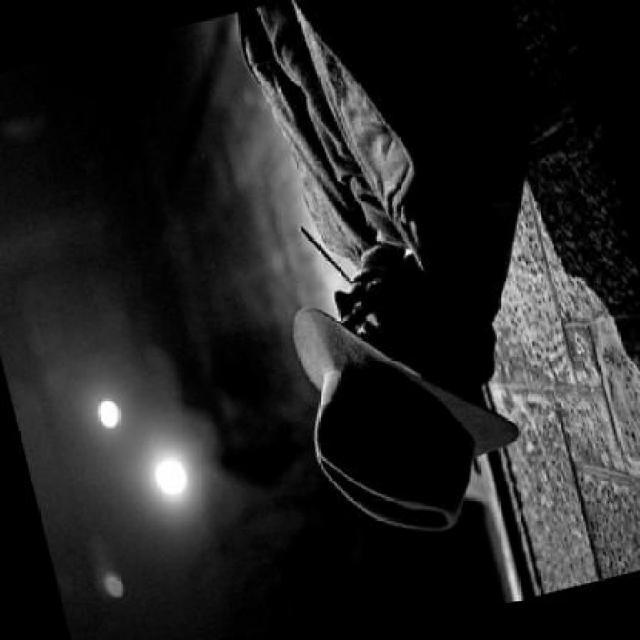cigarette: (293, 212, 356, 298)
